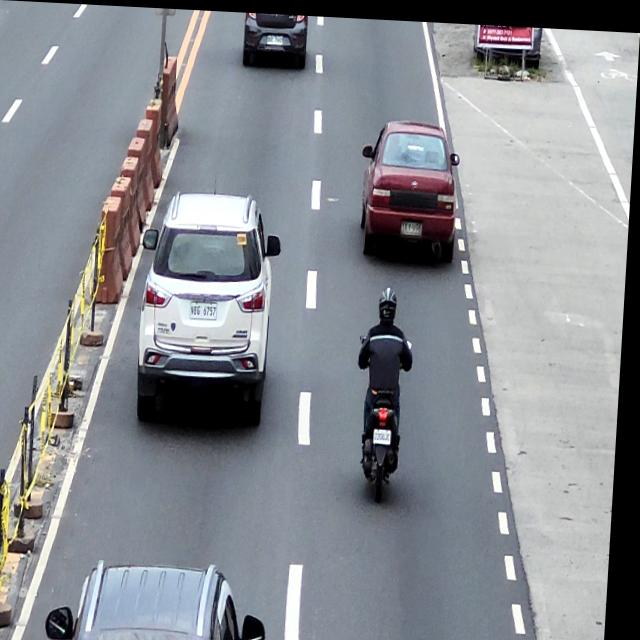Car: (136, 188, 287, 430), (359, 114, 464, 263), (241, 10, 309, 65)
License-Plate: (193, 299, 222, 318), (403, 217, 426, 232), (378, 425, 397, 440), (267, 32, 284, 43)
Motorcycle: (357, 328, 416, 500)
